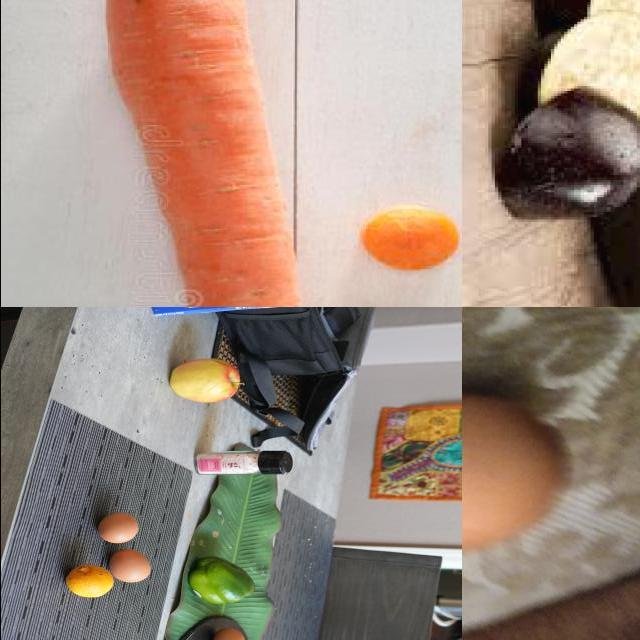bell_pepper: (181, 556, 257, 610)
carrot: (102, 1, 306, 308)
egg: (462, 387, 569, 568), (109, 549, 155, 585), (95, 515, 141, 547), (208, 627, 253, 640)
